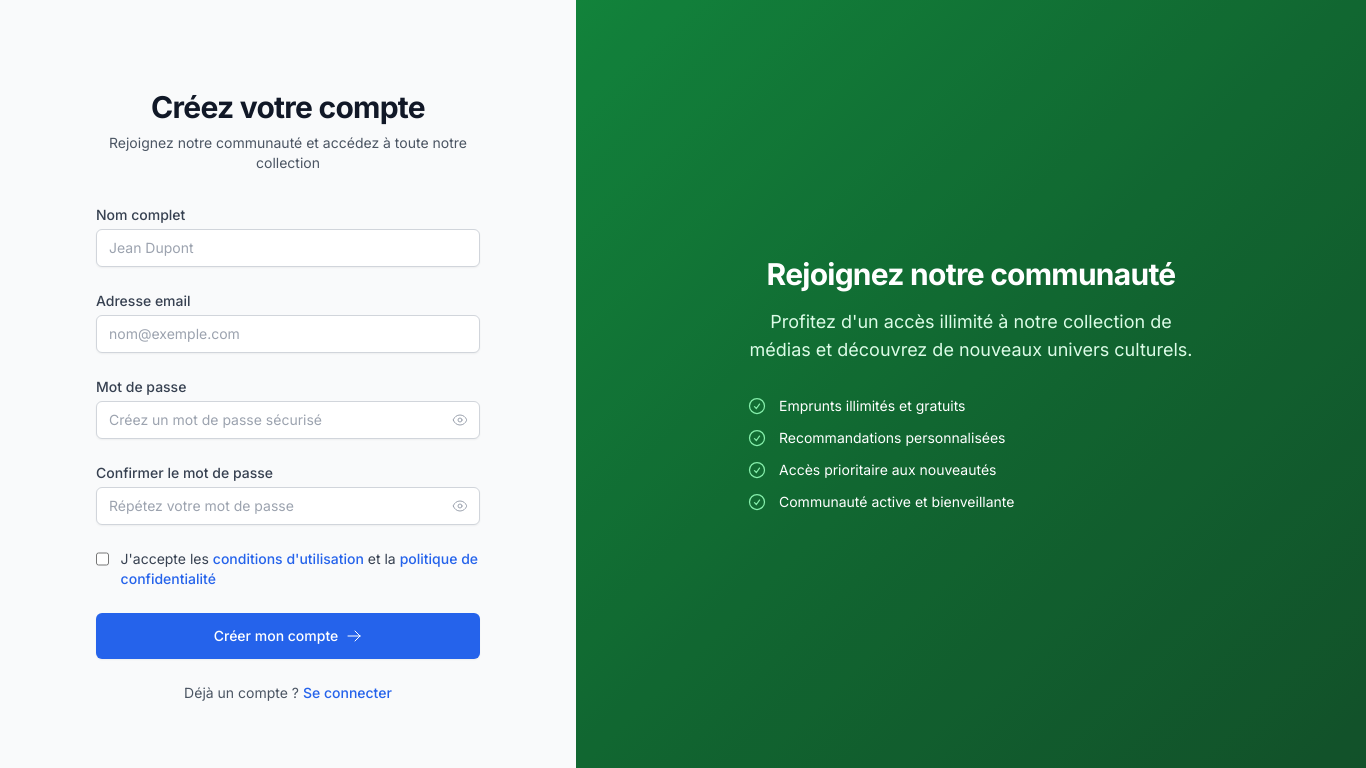
Test: RegisterPage › Validation des champs › affiche une erreur si le nom est vide
Note: Cocher les conditions d'utilisation d'abord
Step 1. Click the checkbox labelled "J'accepte les conditions d'utilisation" → {"x": 102, "y": 559}, box [96,551,109,567]
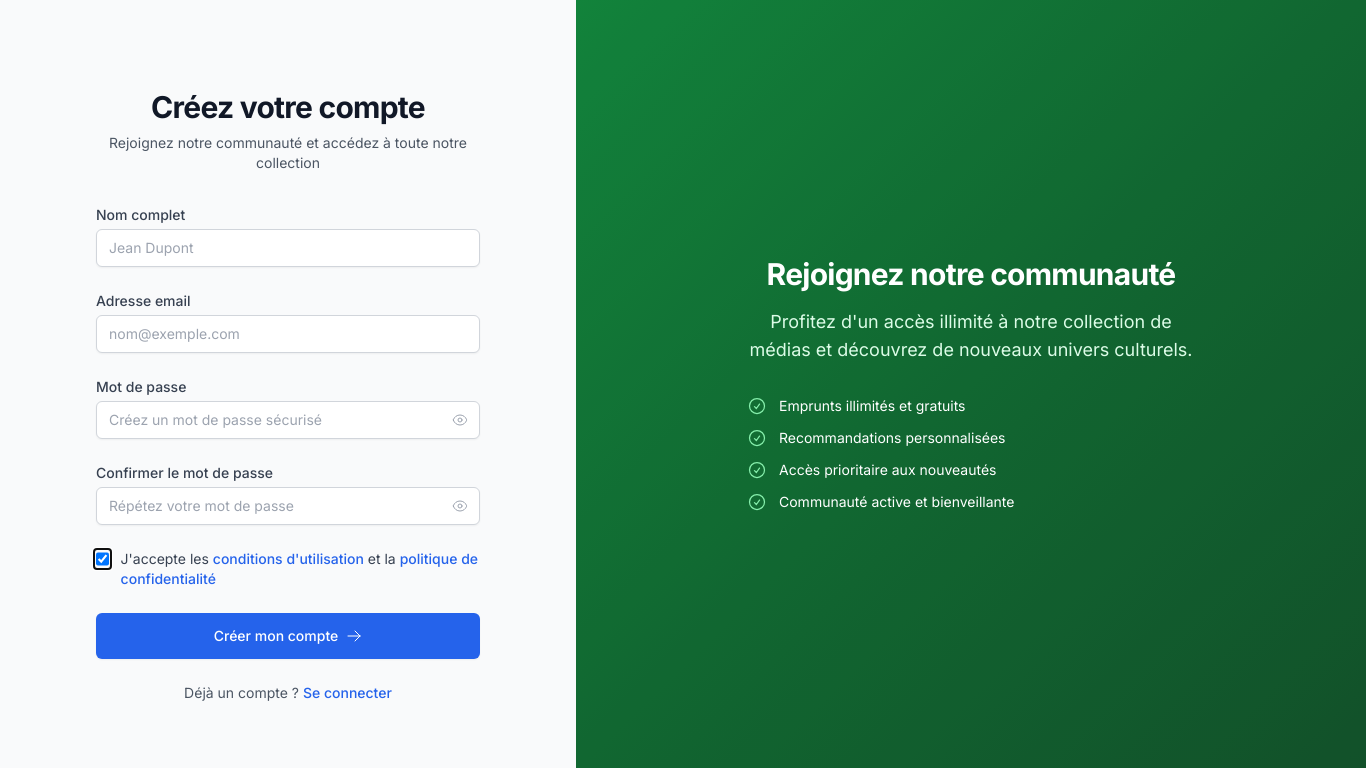
Step 2. Click the button "Créer mon compte" → {"x": 288, "y": 636}, box [96,613,480,659]
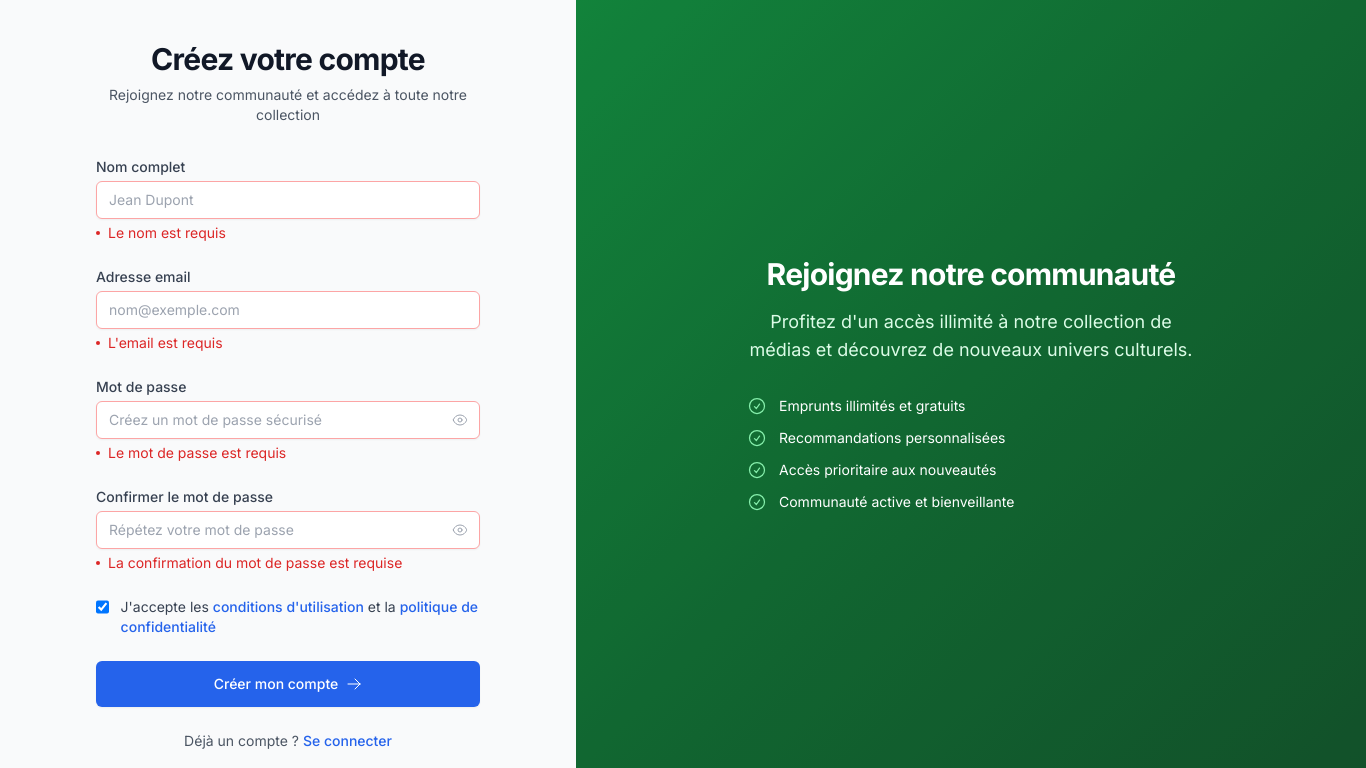
Now the text "Le nom est requis" is shown, box [96,224,226,241]
